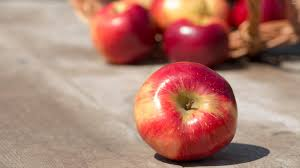apple: (134, 63, 242, 162)
